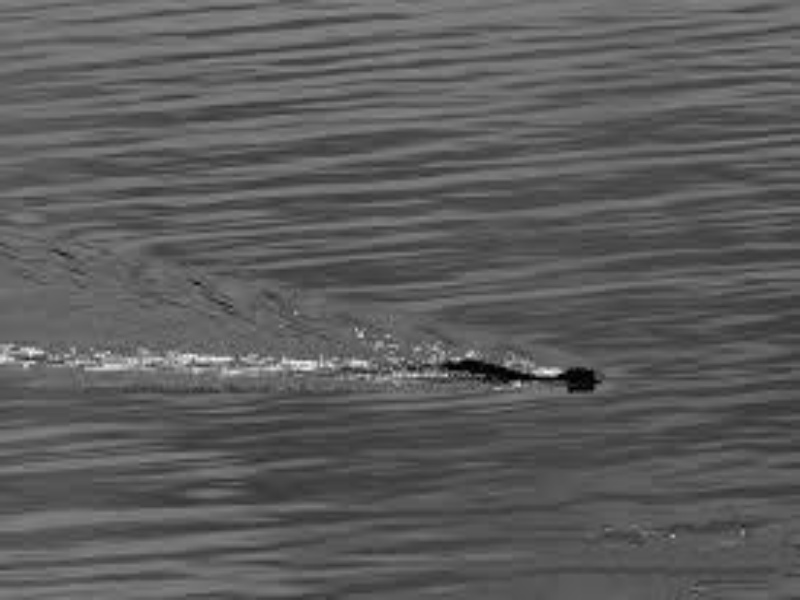minkish: (412, 355, 607, 387)
